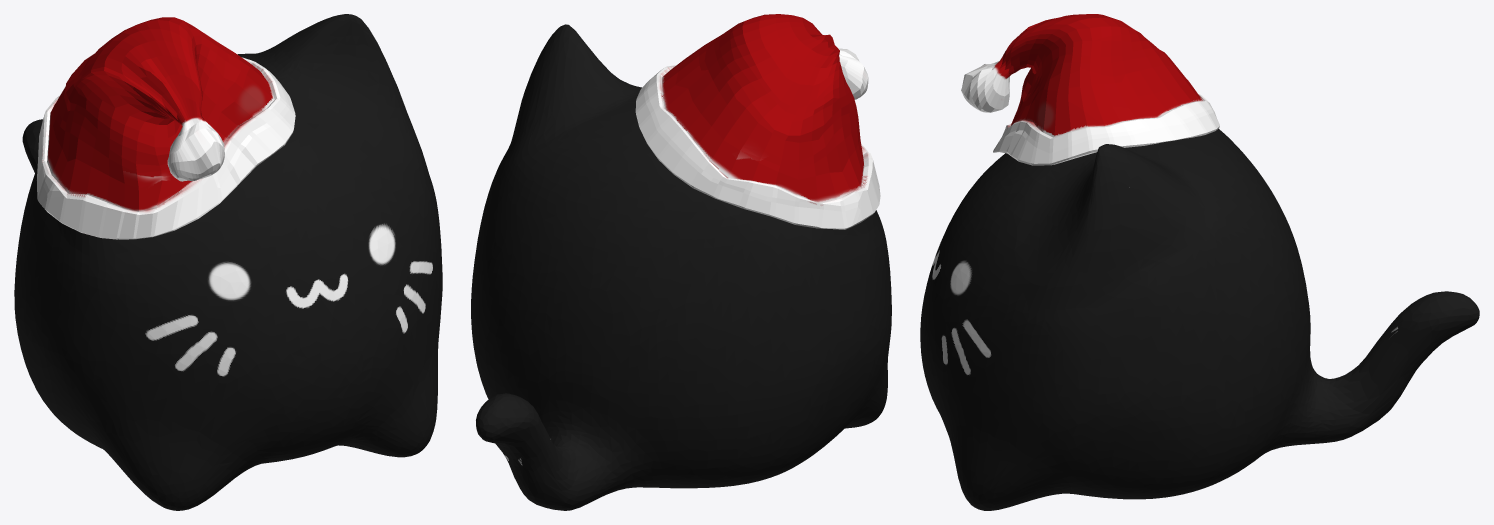
File: kiki (5).fbx
3 views of the same model, side by side, from view 1: azimuth 30°, elevation 25°; view 2: azimuth 150°, elevation 25°; view 3: azimuth 270°, elevation 25° (orthographic). The views are drawn at different scales.
Parts seen in each view (by area): view 1: Sphere, Cone; view 2: Sphere, Cone; view 3: Sphere, Cone.
Boxes of the visible parts, x1,y1,x2,y2 form: Sphere: (14, 14, 442, 510); Cone: (37, 17, 295, 239); Sphere: (471, 24, 891, 510); Cone: (635, 14, 880, 229); Sphere: (920, 128, 1479, 510); Cone: (961, 14, 1219, 165).
Size of the model in its own units: 110 by 123 by 153.
Materials: 2 (2 with a texture image).
